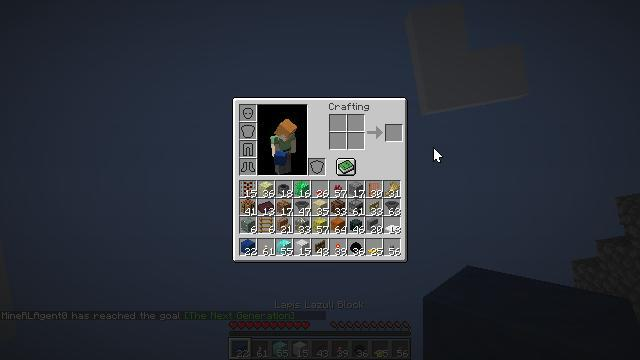cursor: (433, 147, 443, 163)
